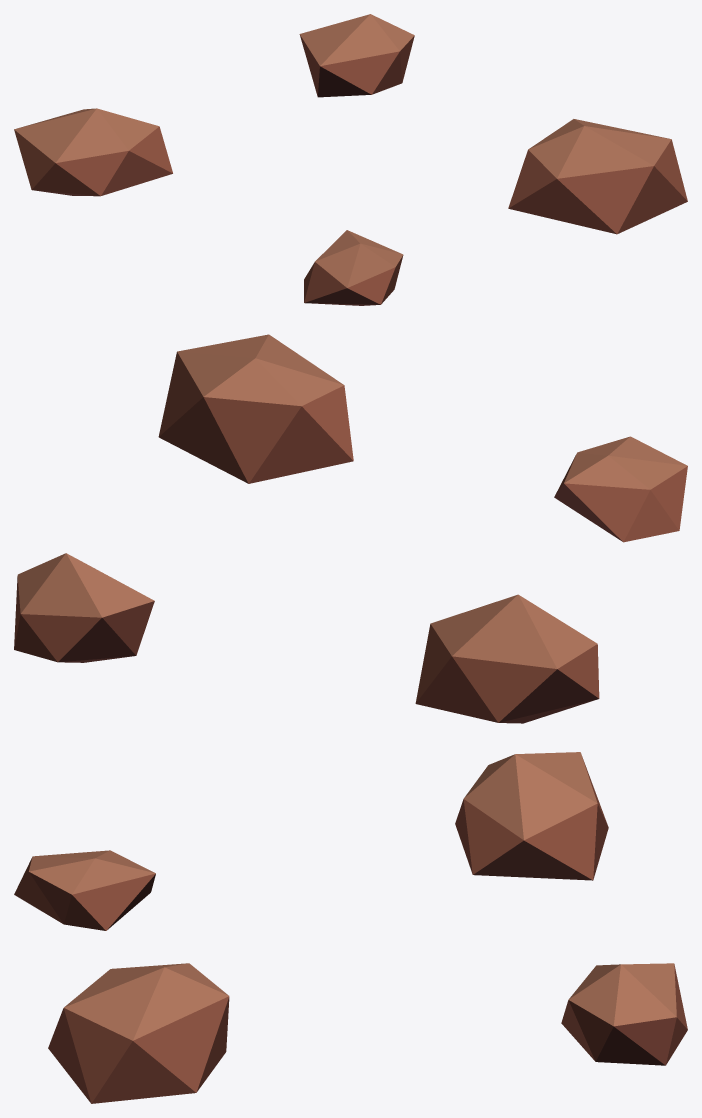
File: rock_small.fbx
3 views of the same model, one above another, from view 1: azimuth 30°, elevation 25°; view 2: azimuth 150°, elevation 25°; view 3: azimuth 270°, elevation 25° (orthographic). The views are drawn at different scales.
Parts seen in each view (by area): view 1: rock_small; view 2: rock_small; view 3: rock_small.
Part boxes in pixels (x1,y1,x2,y2): rock_small: [14, 14, 687, 305]; rock_small: [14, 334, 687, 723]; rock_small: [14, 752, 687, 1103].
Bounding box in the file's own units: 0.3156 × 0.0566 × 0.3012.
